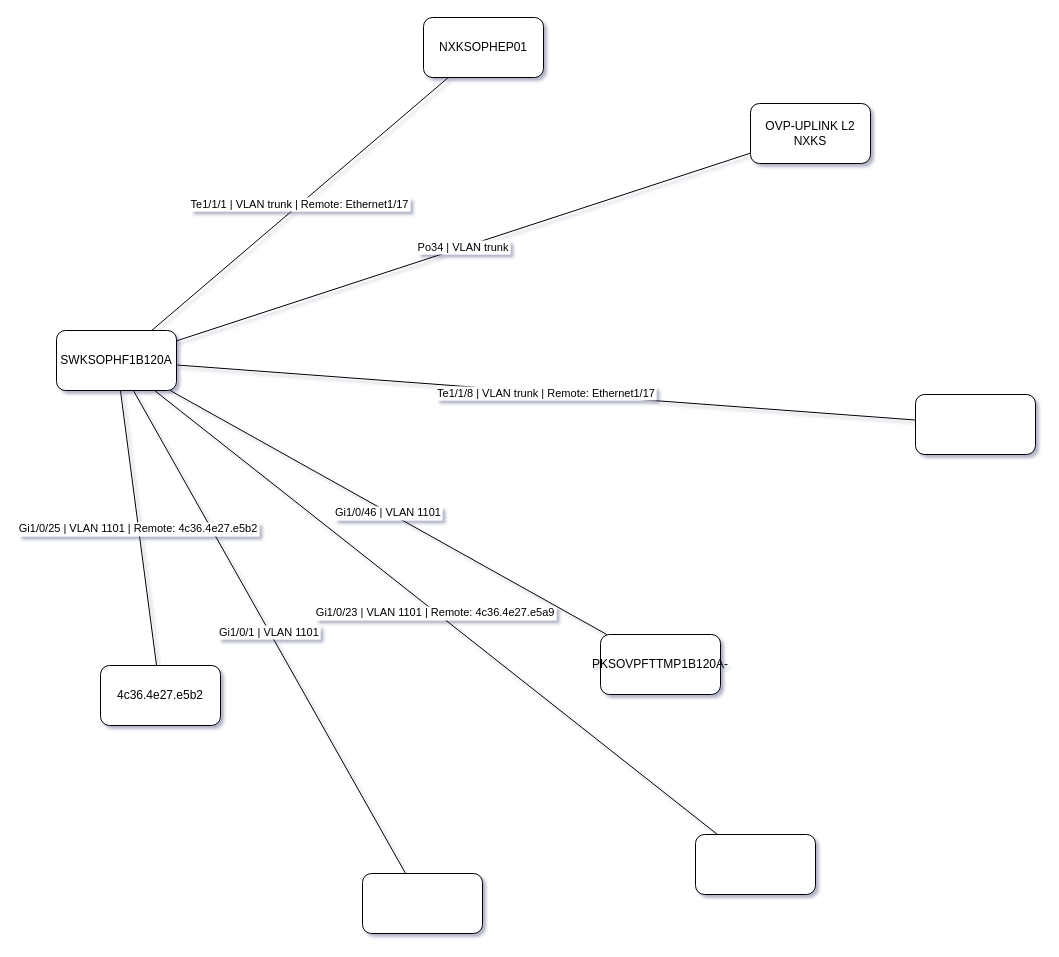
This 1059x957 diagram has some shape labels left out. The shapes that lost their labels are listed below. From the top down, each one's box as (x1, y1, x2, y2) in pixels, then its label:
(914, 394, 1036, 454): NXKSOPHEP02
(694, 834, 816, 894): 4c36.4e27.e5a9
(362, 872, 482, 934): CAMERA ELEVATOR :
